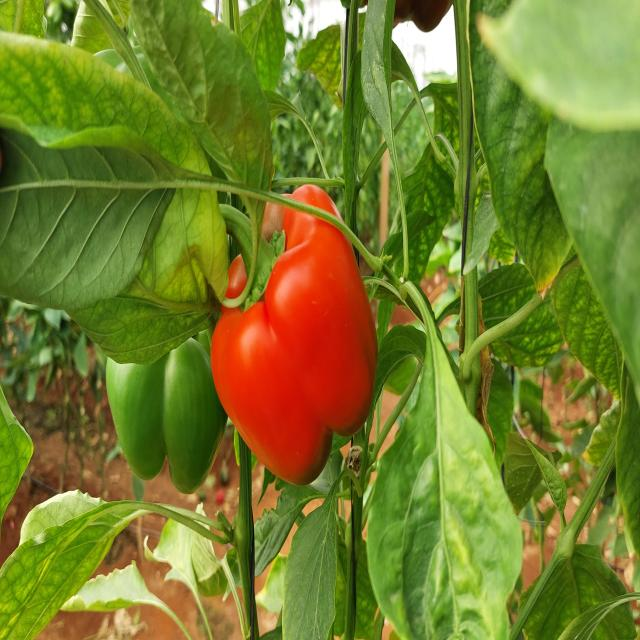Red-Ready-to-Harvest: (192, 202, 394, 496)
